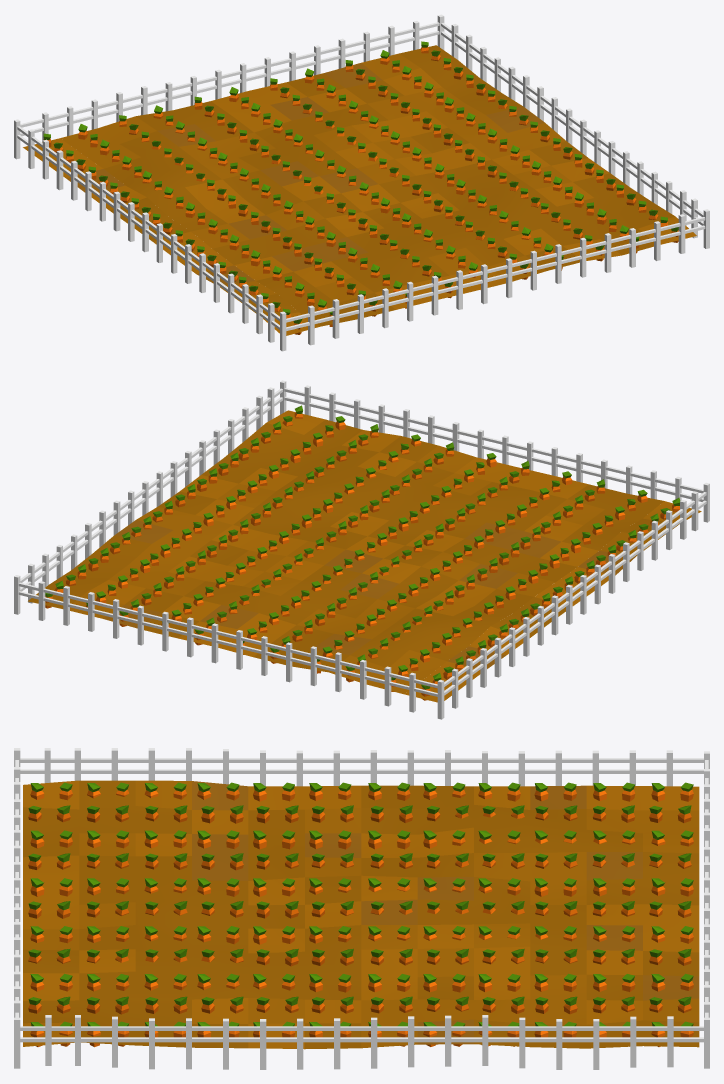
Rendered from field_2.fbx.
3 renders of one model, top to bottom at view 1: azimuth 30°, elevation 25°; view 2: azimuth 150°, elevation 25°; view 3: azimuth 270°, elevation 25°, orthographic. The views are drawn at different scales.
Parts seen in each view (by area): view 1: Ground.005; view 2: Ground.005; view 3: Ground.005.
Boxes of the visible parts, x1,y1,x2,y2 form: Ground.005: (14,14,709,351); Ground.005: (14,380,709,719); Ground.005: (14,748,709,1069).
Size of the model in its own units: 165 by 15 by 179.
